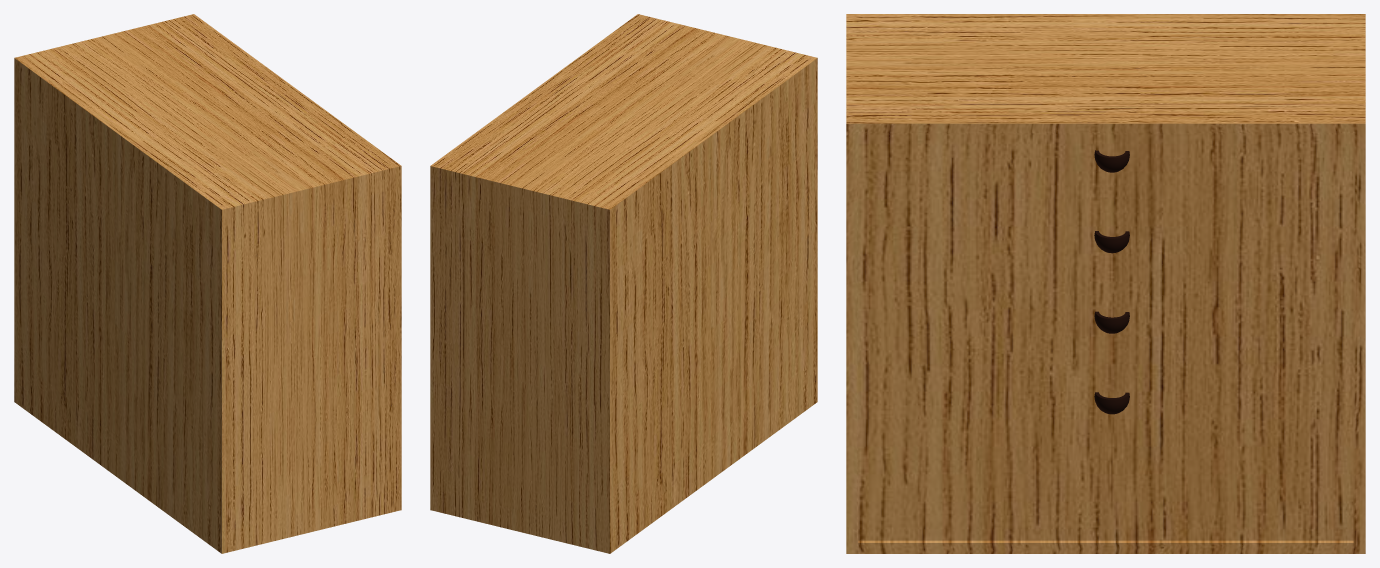
The model's file is buro 1.fbx.
3 views of the same model, side by side, from view 1: azimuth 30°, elevation 25°; view 2: azimuth 150°, elevation 25°; view 3: azimuth 270°, elevation 25° (orthographic). The views are drawn at different scales.
Visible parts, largest first — view 1: buro; view 2: buro; view 3: buro.
Part boxes in pixels (box(x1,y1,x2,y2)): buro: box(14, 14, 401, 553); buro: box(430, 14, 817, 553); buro: box(846, 14, 1365, 553).
Size of the model in its own units: 67.7 by 118 by 129.
